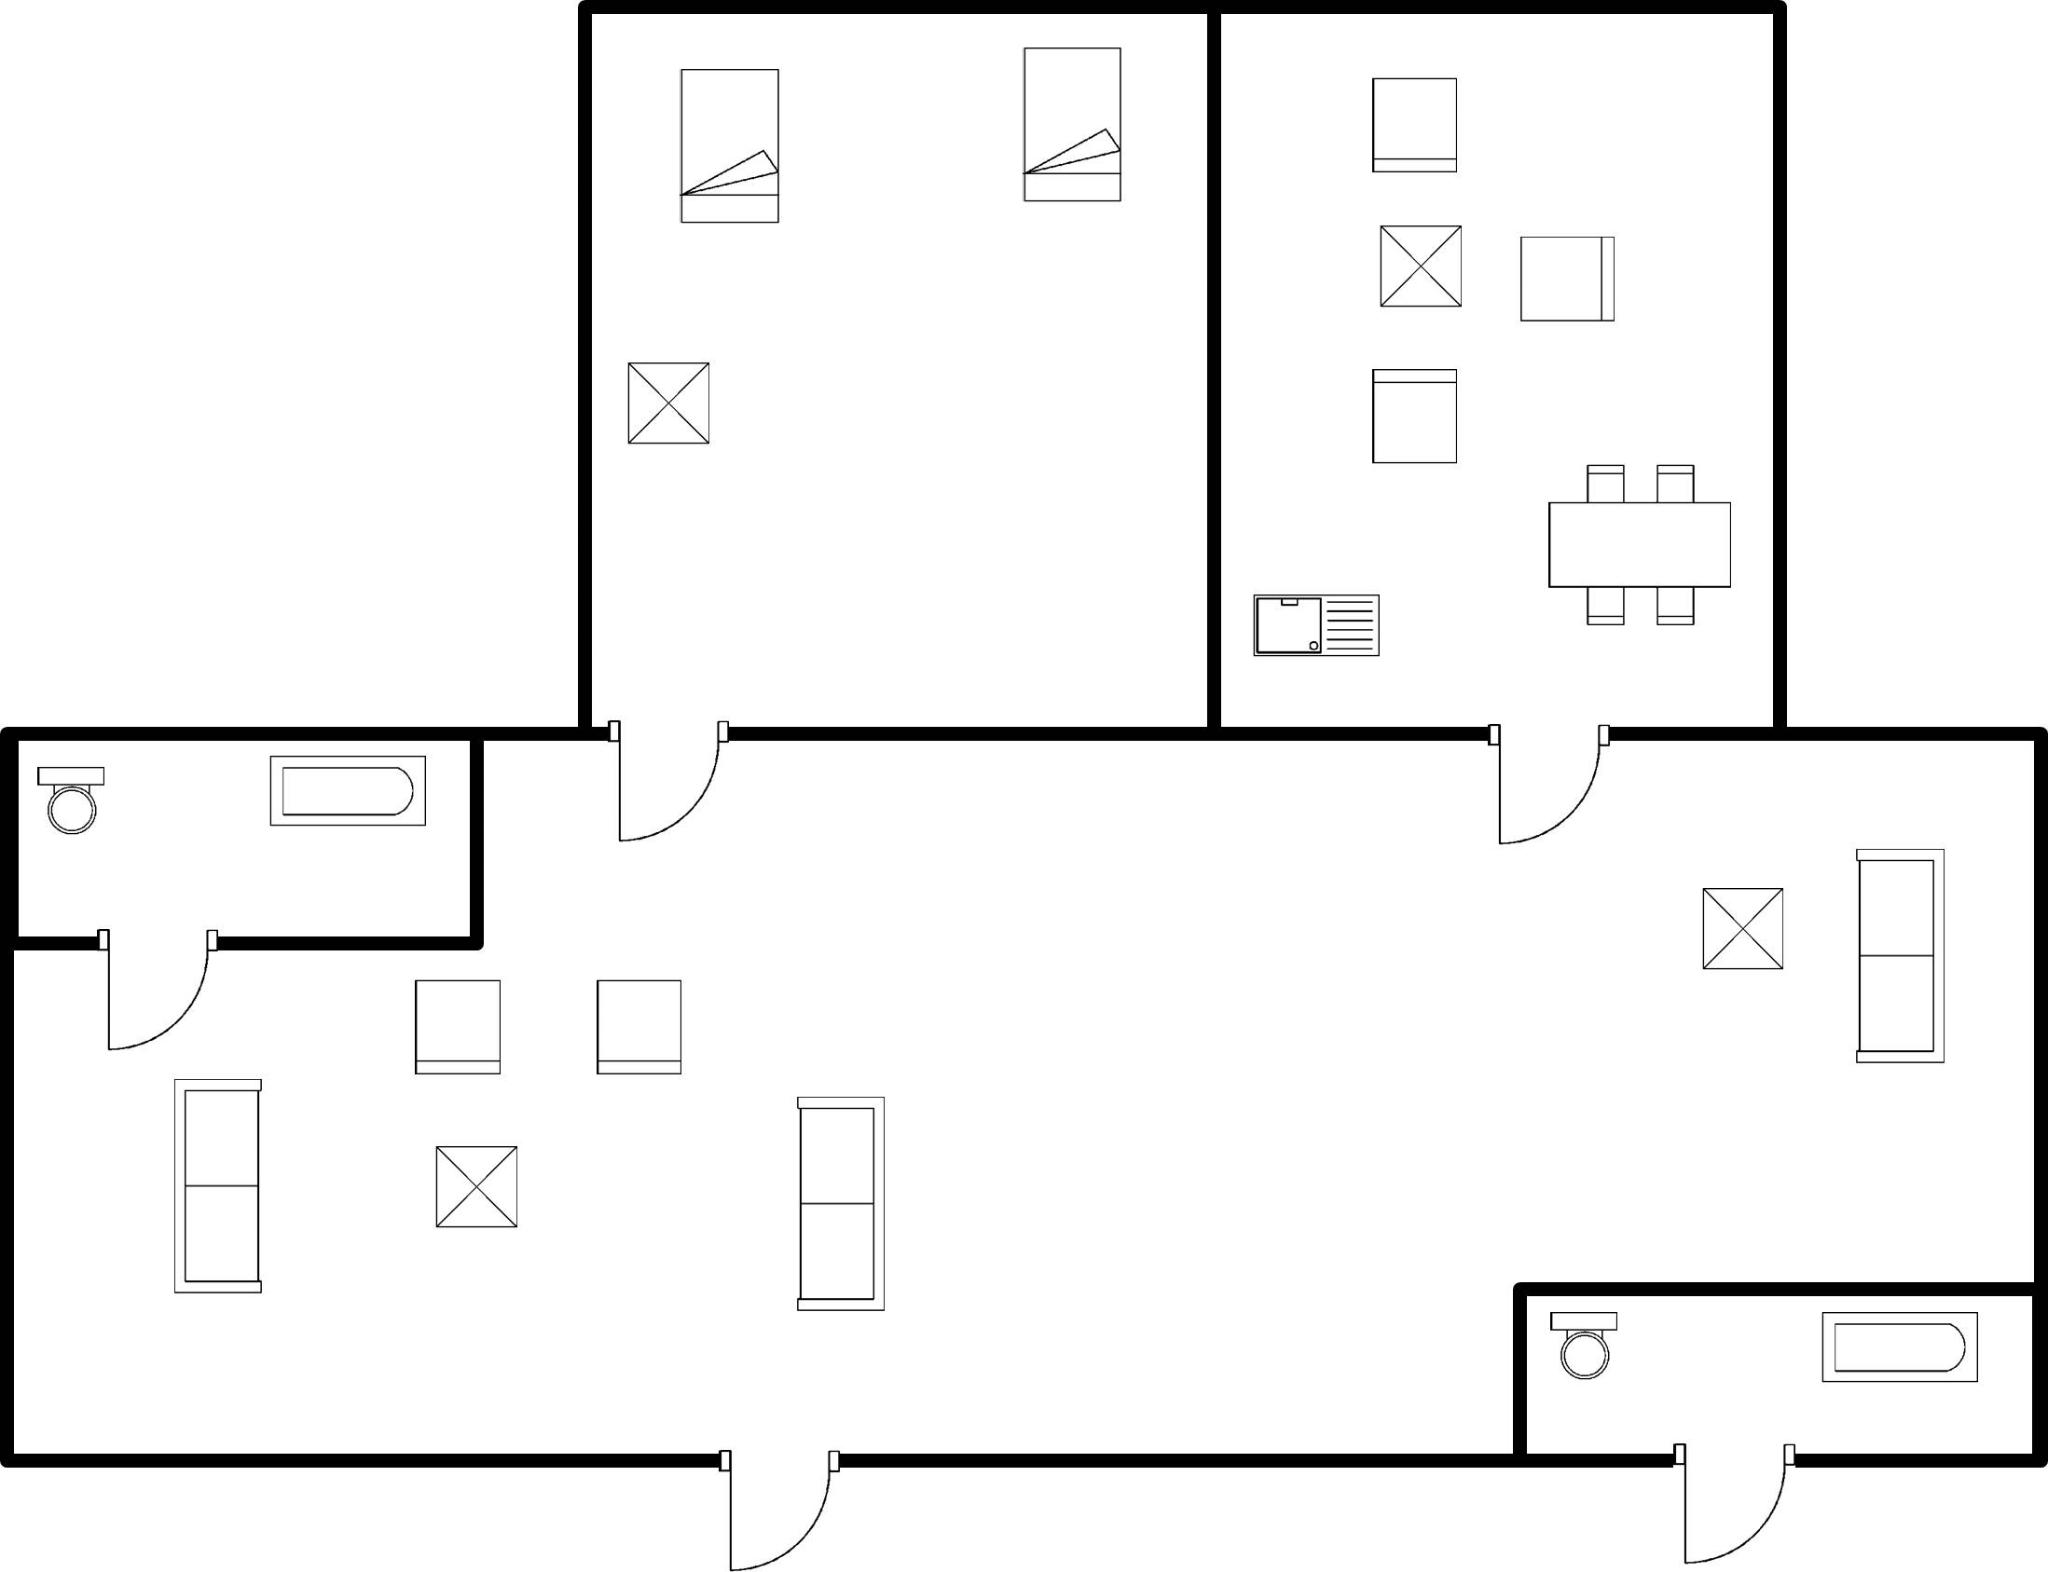bed: (666, 58, 791, 230), (1011, 38, 1128, 210)
dining_table: (1539, 449, 1737, 637)
sink: (1242, 580, 1391, 675)
sofa: (1842, 842, 1956, 1077), (788, 1087, 895, 1328), (160, 1070, 268, 1303)
toilet: (25, 755, 127, 842), (1541, 1304, 1627, 1389)
tub: (259, 746, 438, 837), (1812, 1301, 1990, 1392)
